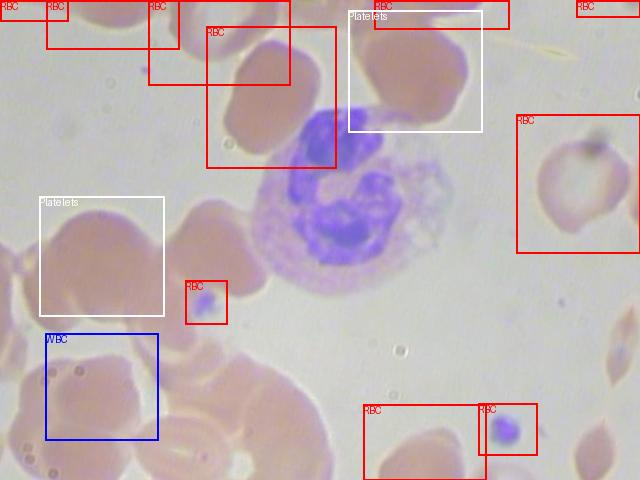Platelets: (348, 10, 482, 132), (39, 196, 164, 316)
RBC: (206, 26, 336, 168), (516, 114, 640, 253), (148, 0, 290, 85), (363, 404, 486, 480), (46, 0, 179, 49), (374, 0, 509, 29), (478, 403, 537, 455), (185, 280, 227, 324), (0, 0, 68, 21), (576, 0, 640, 17)
WBC: (45, 333, 158, 440)
